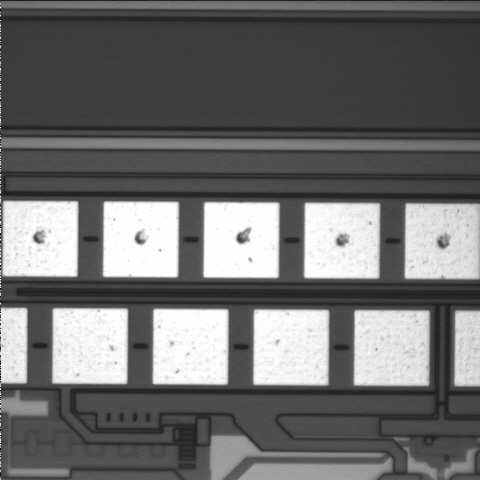pad: (203, 202, 279, 278), (52, 308, 128, 384), (3, 201, 78, 277), (103, 202, 179, 277), (304, 203, 380, 278), (153, 309, 228, 385), (253, 310, 329, 385), (354, 310, 429, 386)
